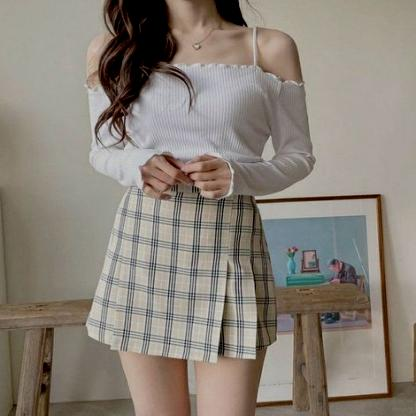jacket: (81, 15, 326, 208), (81, 164, 279, 365)
